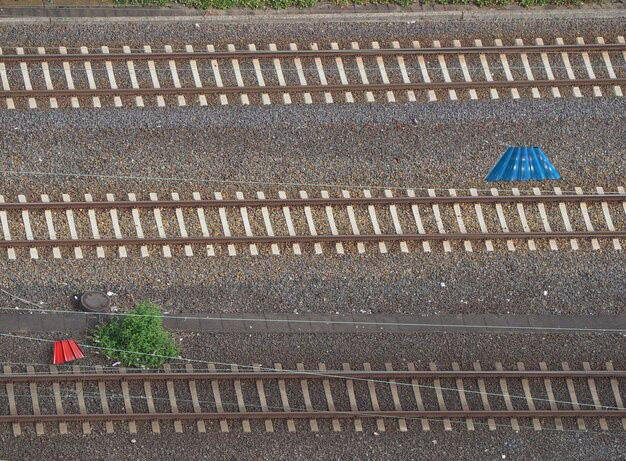Color_steel: (49, 330, 82, 368)
